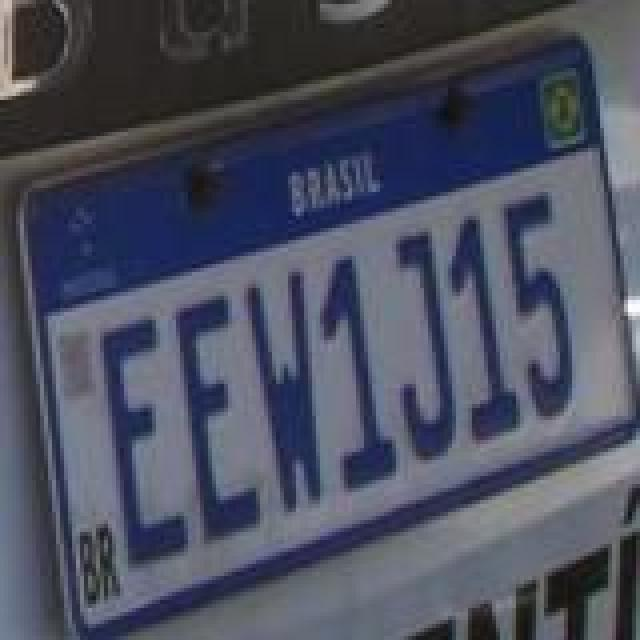1: (322, 256, 398, 496), (450, 214, 526, 442)
5: (502, 188, 578, 420)
E: (98, 312, 190, 568), (172, 294, 260, 546)
J: (392, 230, 456, 466)
W: (246, 270, 322, 514)
